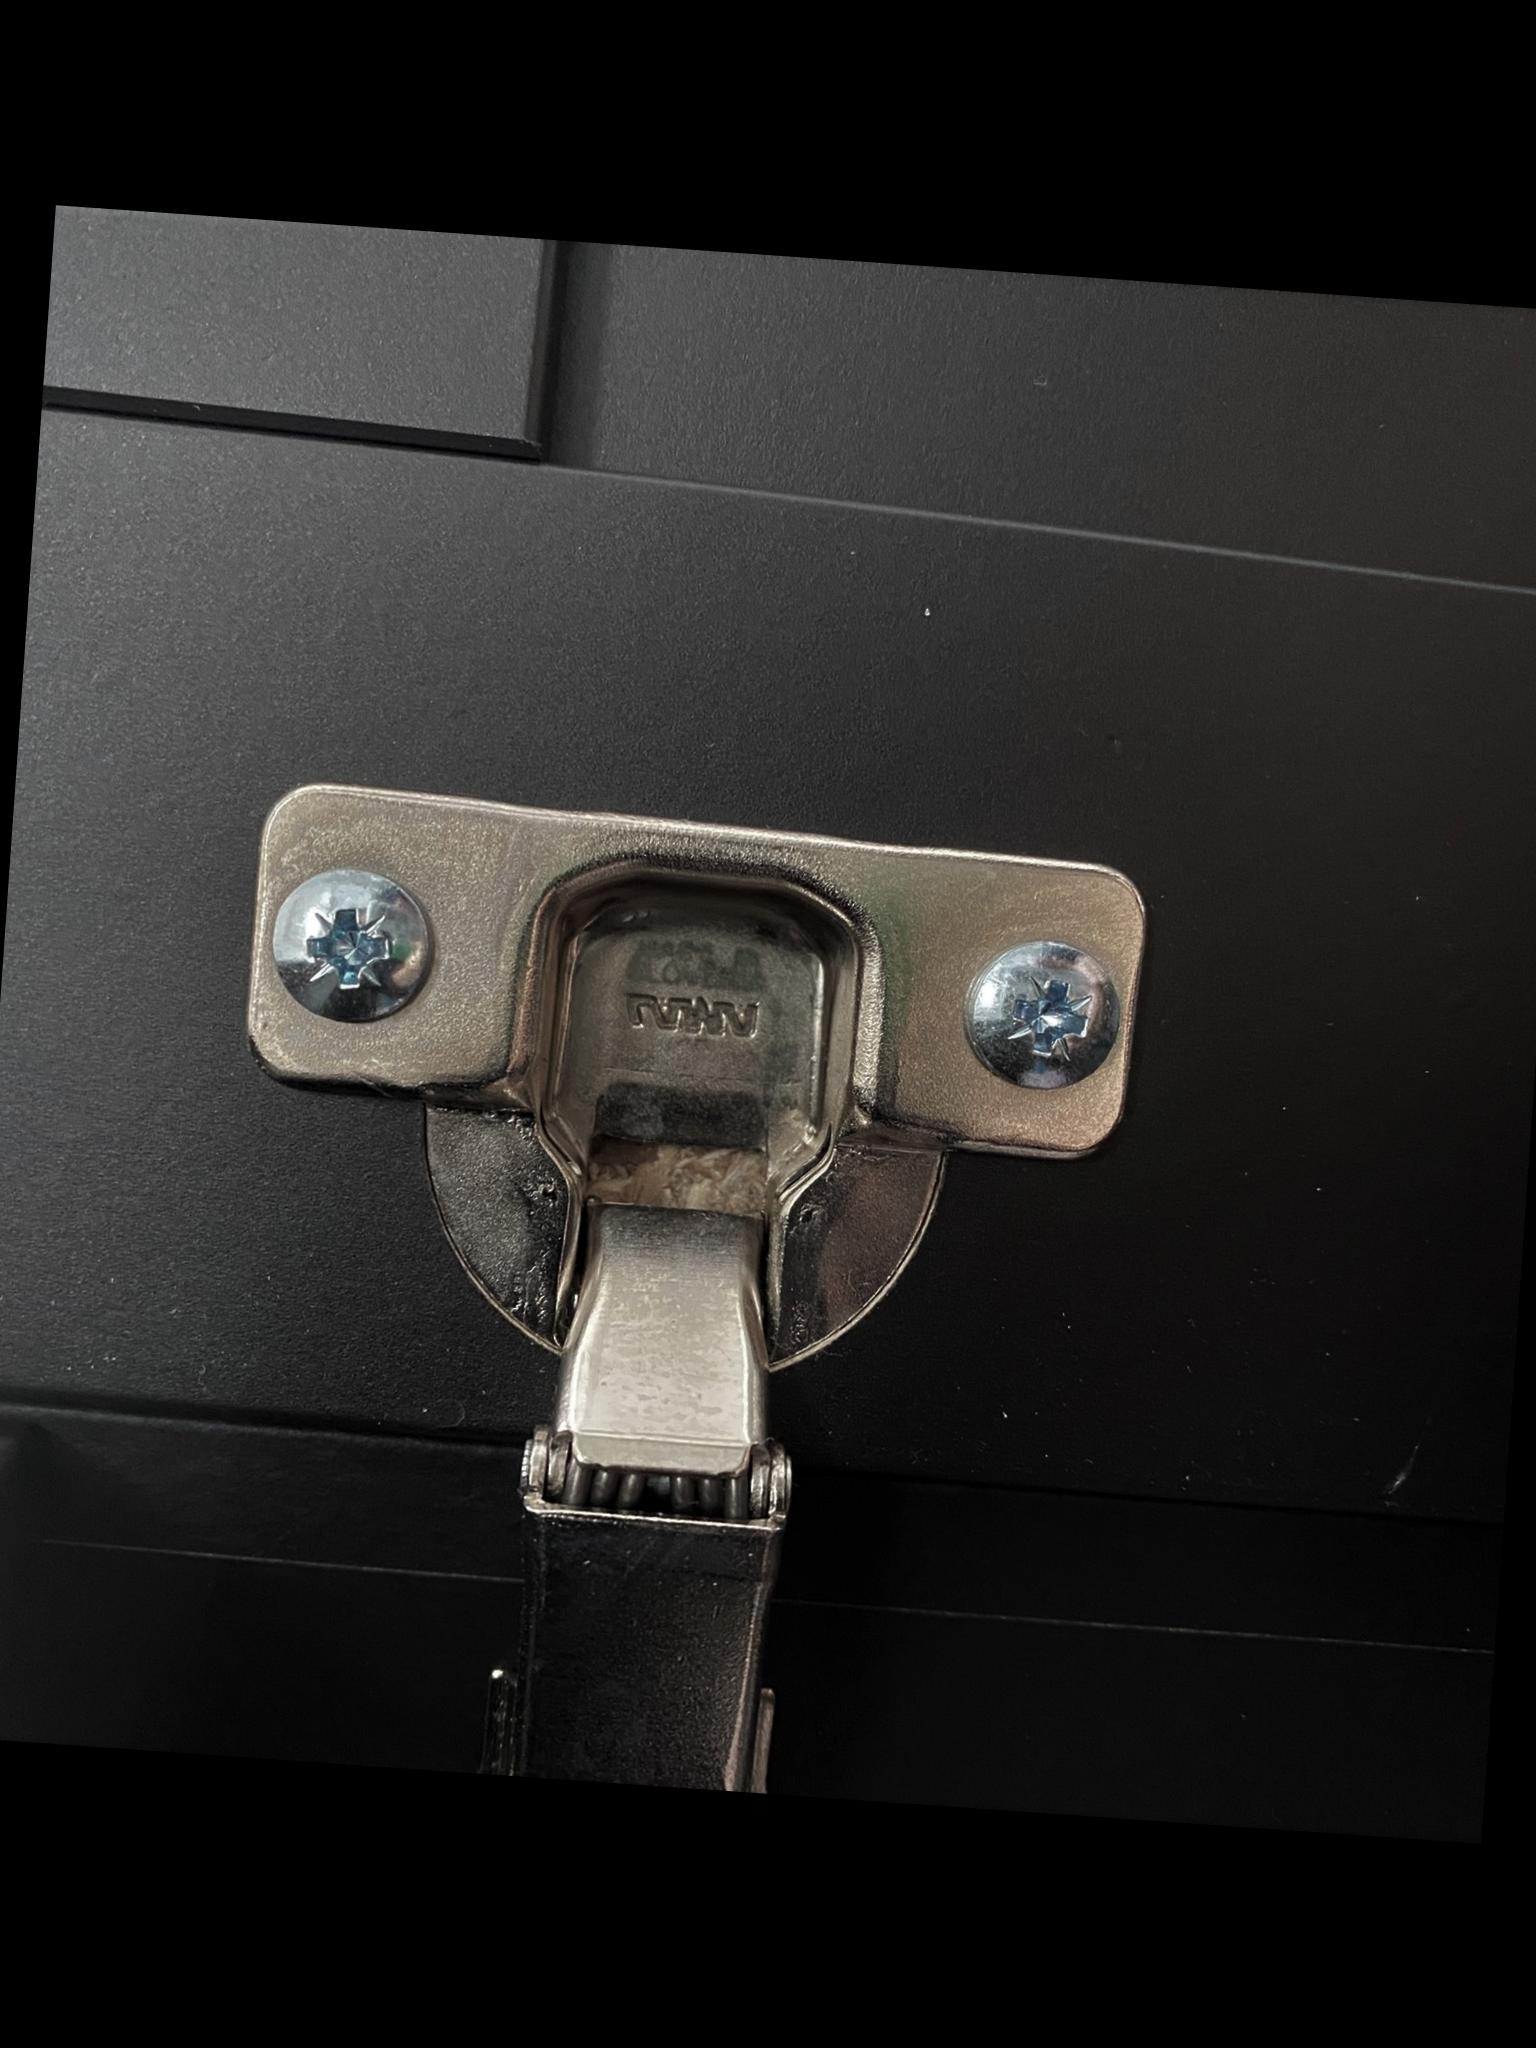PH: (265, 863, 440, 1032), (960, 932, 1125, 1100)
